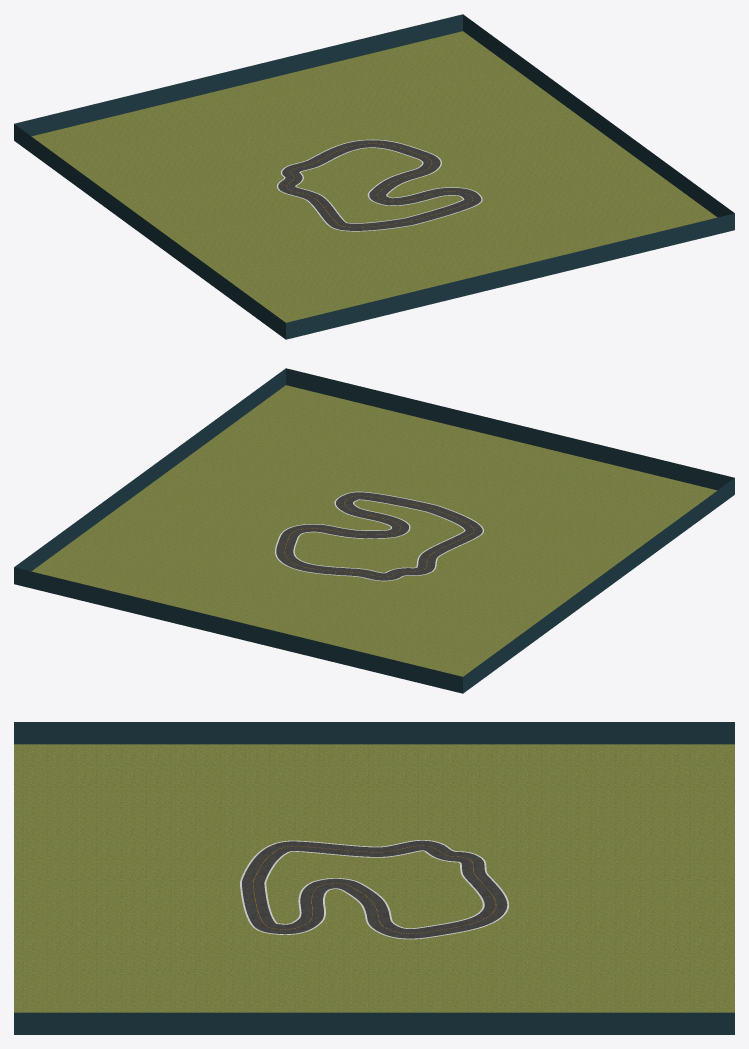
The model's file is LGSWide.dae.
3 views of the same model, one above another, from view 1: azimuth 30°, elevation 25°; view 2: azimuth 150°, elevation 25°; view 3: azimuth 270°, elevation 25° (orthographic). The views are drawn at different scales.
Visible parts, largest first — view 1: field, wall, road, ol, il; view 2: field, wall, road, ol, il; view 3: field, wall, road, ol, il.
Boxes of the visible parts, x1,y1,x2,y2 form: field: (31,31,717,322); wall: (14,14,734,339); road: (278,140,481,230); ol: (276,139,482,231); il: (295,147,464,223); field: (31,385,717,676); wall: (14,368,734,693); road: (276,492,482,580); ol: (275,491,483,581); il: (293,499,465,573); field: (14,744,734,1012); wall: (14,722,734,1034); road: (242,840,507,938); ol: (240,840,508,939); il: (264,850,484,928).
Bounding box in the file's own units: 27.81 × 29.18 × 1.
6 materials, 6 textured.
